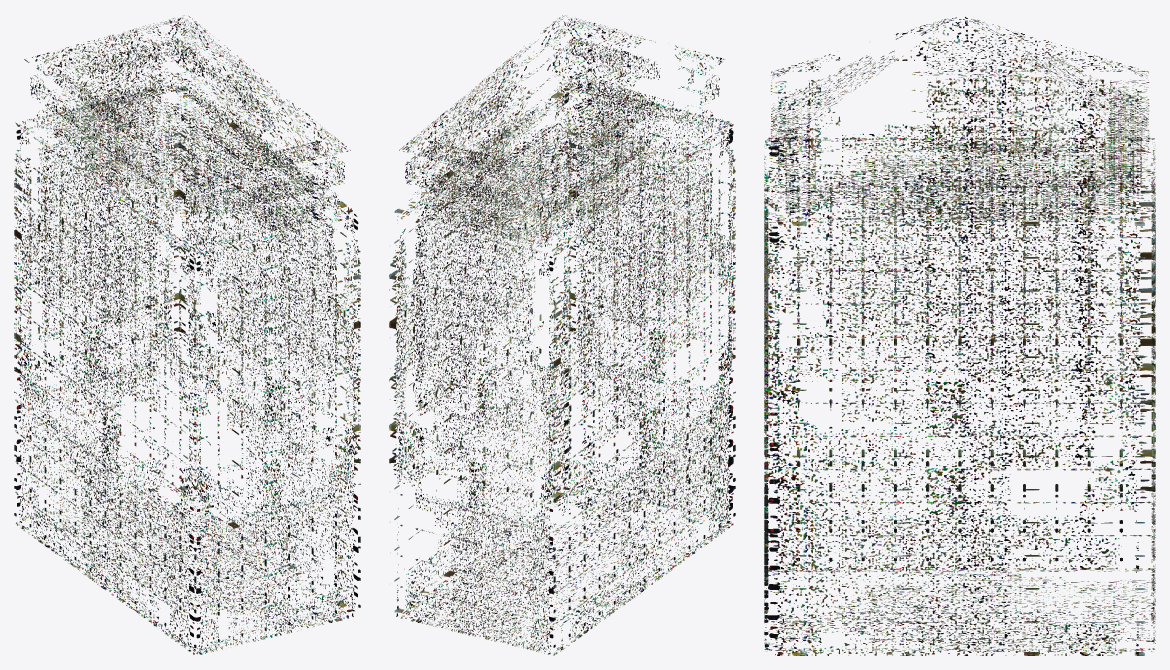
The model's file is ConeTop.fbx.
3 renders of one model, left to right at view 1: azimuth 30°, elevation 25°; view 2: azimuth 150°, elevation 25°; view 3: azimuth 270°, elevation 25°, orthographic. The views are drawn at different scales.
Visible parts, largest first — view 1: Cube.001; view 2: Cube.001; view 3: Cube.001.
Part boxes in pixels (<box>): Cube.001: <box>14,15,360,654</box>; Cube.001: <box>389,15,735,655</box>; Cube.001: <box>764,17,1155,655</box>.
Size of the model in its own units: 86.44 by 277 by 164.
1 material, 1 textured.
